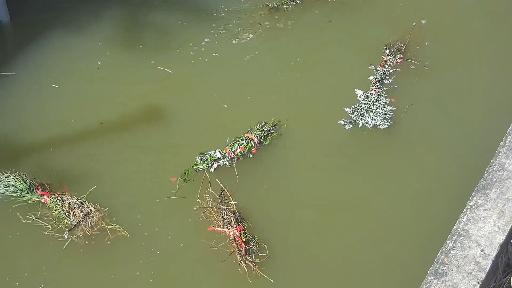twig: (0, 157, 155, 247), (339, 18, 435, 136), (186, 180, 288, 287), (164, 105, 298, 186), (258, 0, 354, 14)
